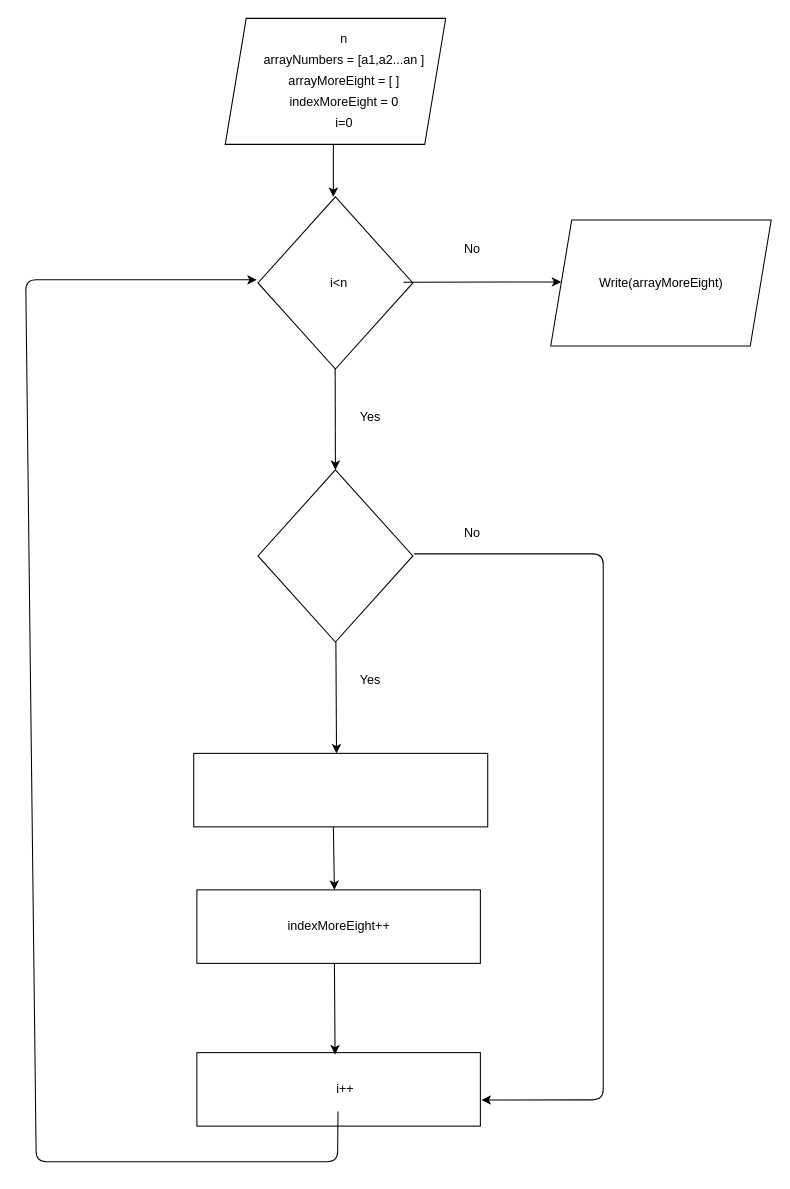
Some shapes in this 790 by 1189 pixel diagram are drawn without their labels. Each missing label, with the centre of its shape:
arrayMoreEight[indexMoreEight]=arrayNumbers[i]: (340,789)
arrayNumbers[i] >8: (335,555)
